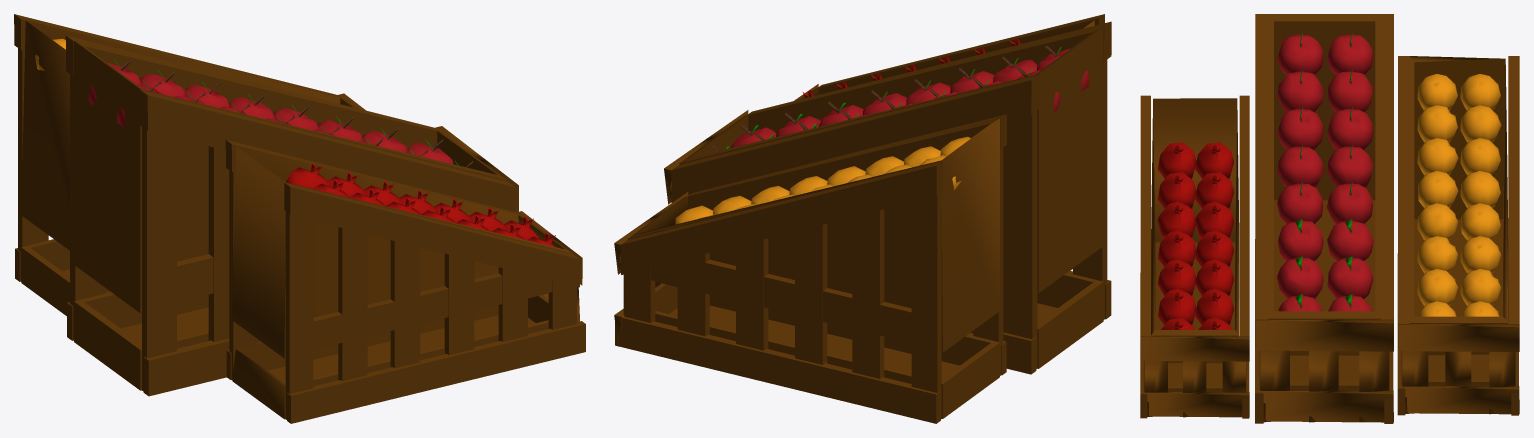
File: Street stails.fbx
The picture shows the model from 3 angles, left to right: view 1: azimuth 30°, elevation 25°; view 2: azimuth 150°, elevation 25°; view 3: azimuth 270°, elevation 25°; orthographic projection. The views are drawn at different scales.
Parts seen in each view (by area): view 1: Cube.002; view 2: Cube.002; view 3: Cube.002.
Part boxes in pixels (box(x1,y1,x2,y2)): Cube.002: box(14, 14, 585, 423); Cube.002: box(614, 14, 1111, 423); Cube.002: box(1140, 14, 1519, 423).
Bounding box in the file's own units: 746 × 574 × 769.
